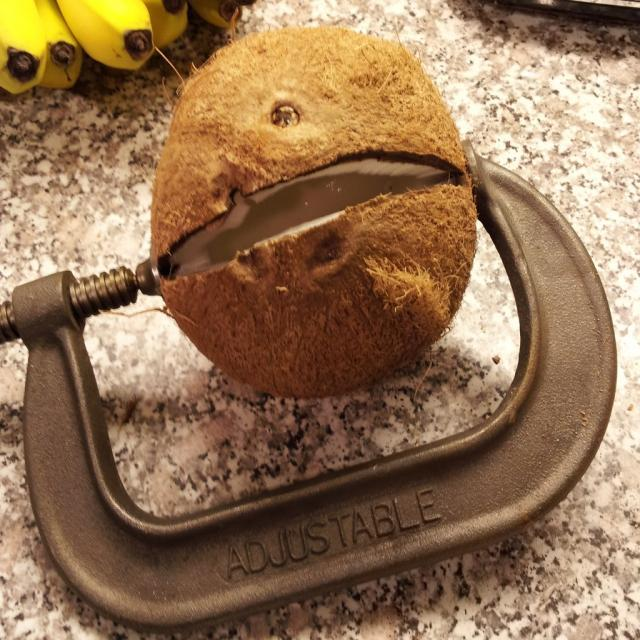Banana: (0, 0, 250, 96), (54, 0, 154, 72)
